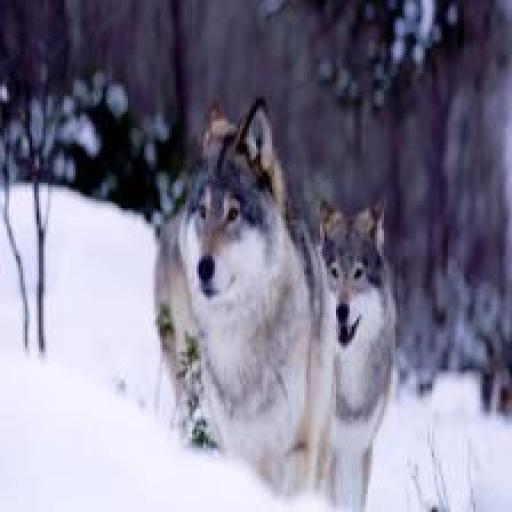wolf: (153, 94, 317, 507), (320, 164, 406, 502)
